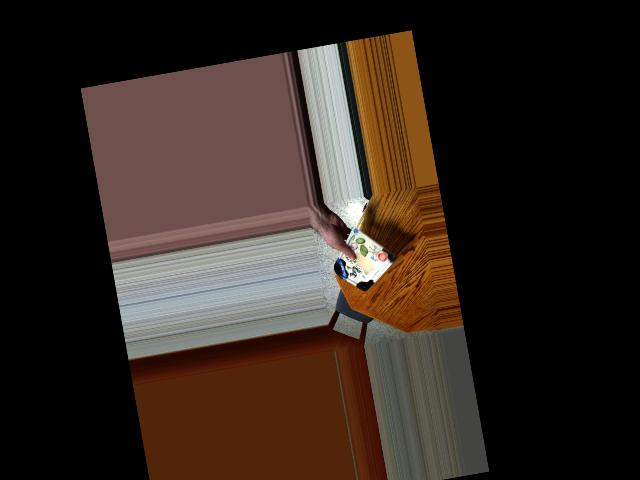cheese: (329, 233, 392, 290)
